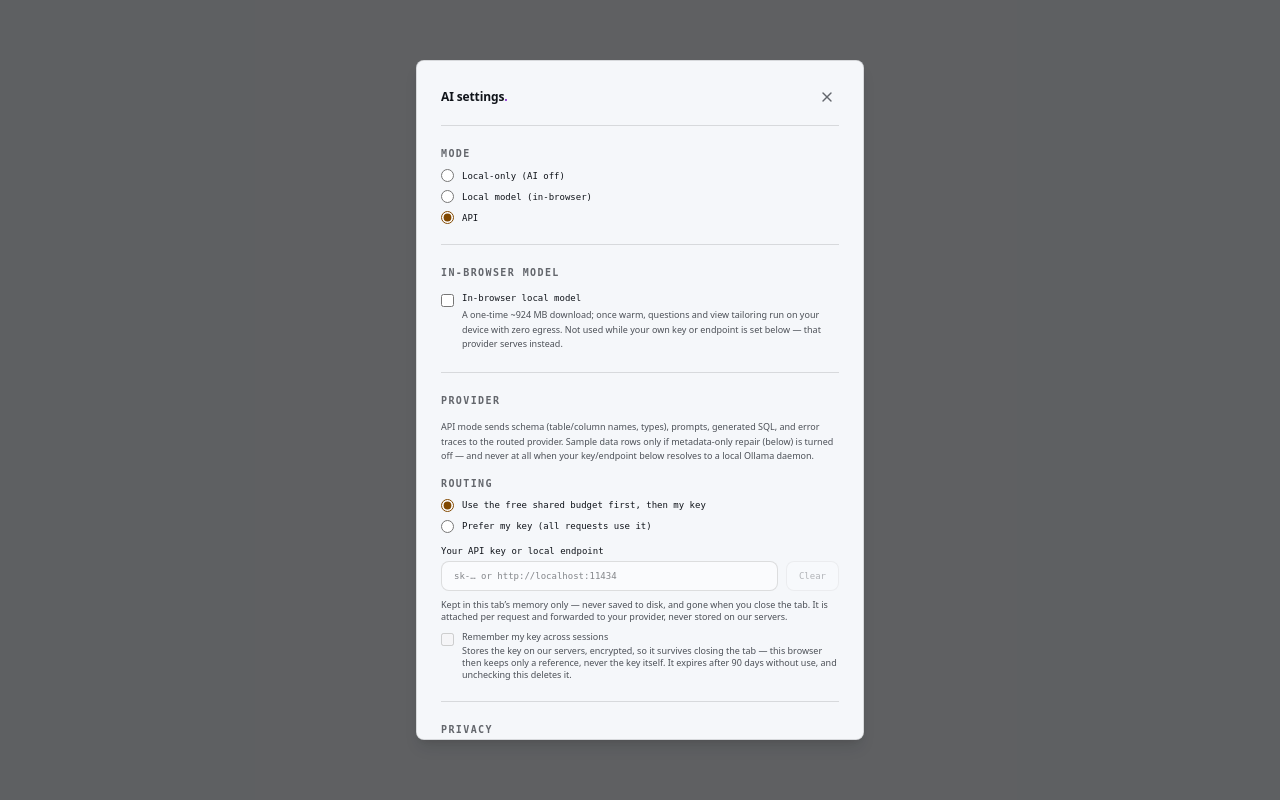
AISettingsPanel › masks a bearer key but shows a local Ollama endpoint in plain text, with matching disclosure copy (D9 field-shape detection, 2026-07-22)
In the password field labelled "Your API key or local endpoint": (609, 576) [441,561,778,591], type "sk-secret-123"
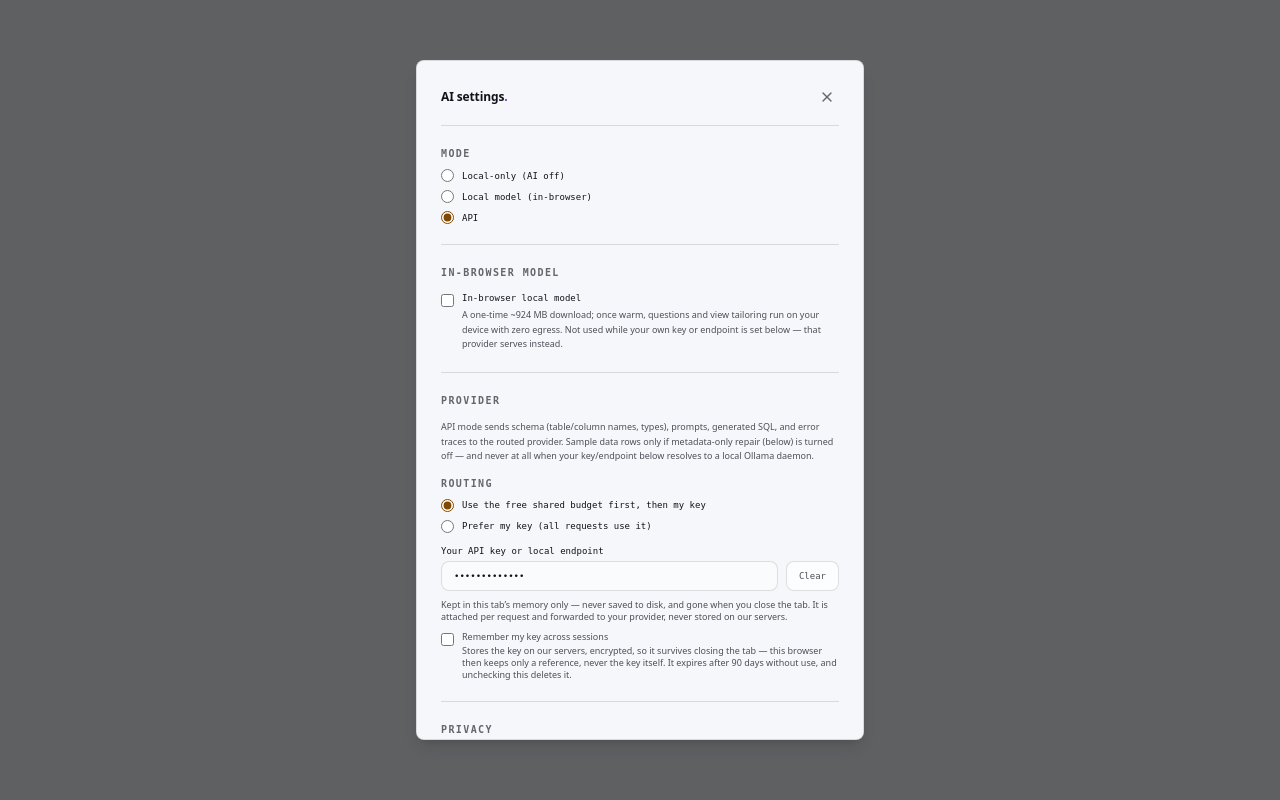
Expected: the text "attached per request and forwarded to your provider" is shown, [441,598,828,623]
In the password field labelled "Your API key or local endpoint": (609, 576) [441,561,778,591], type "http://localhost:11434"
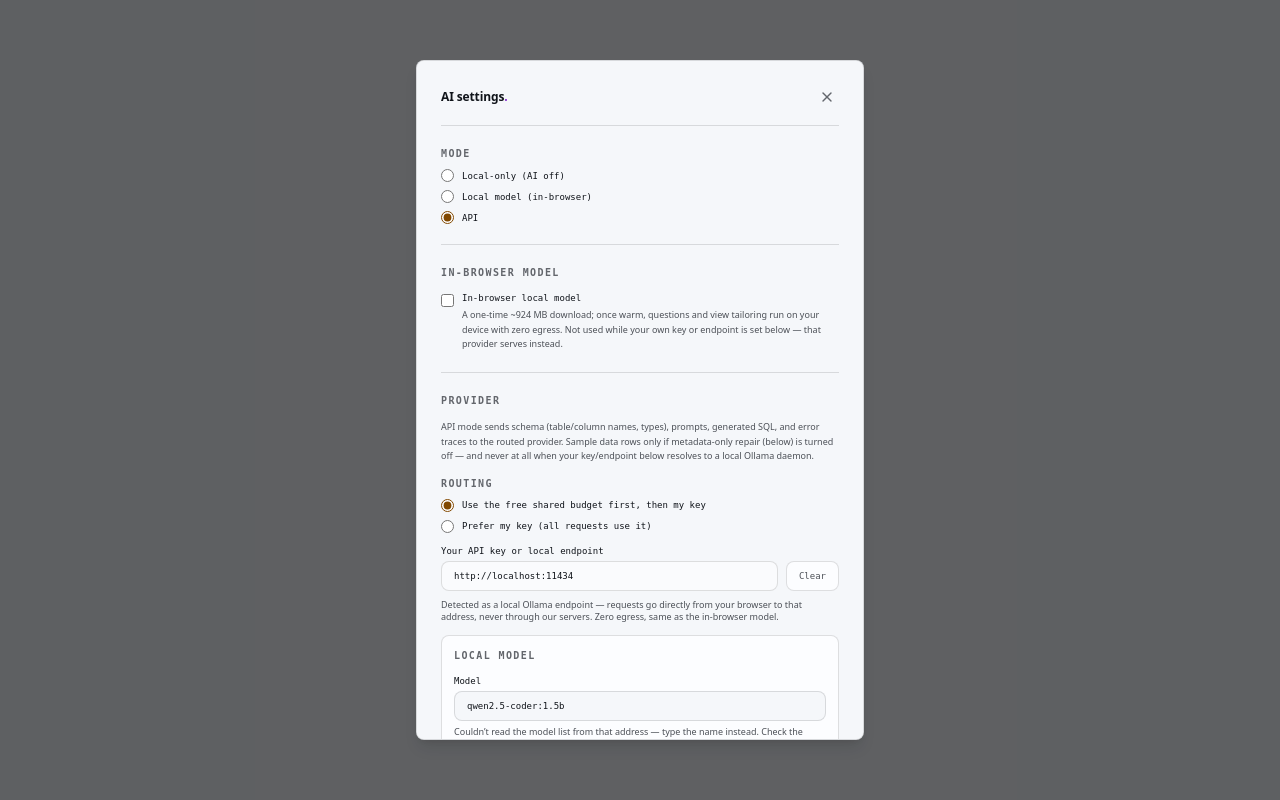
Expected: the text "Detected as a local Ollama endpoint" is shown, [441,598,802,623]
Expected: the text "Remember my key" is gone
